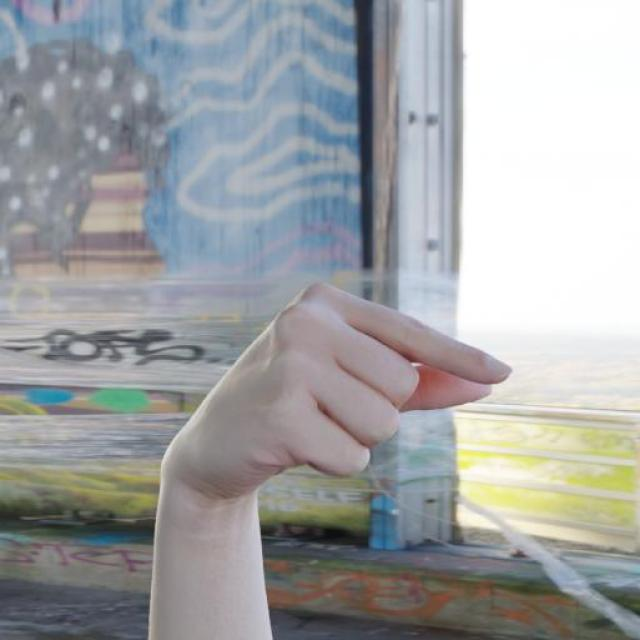G: (154, 276, 515, 482)
